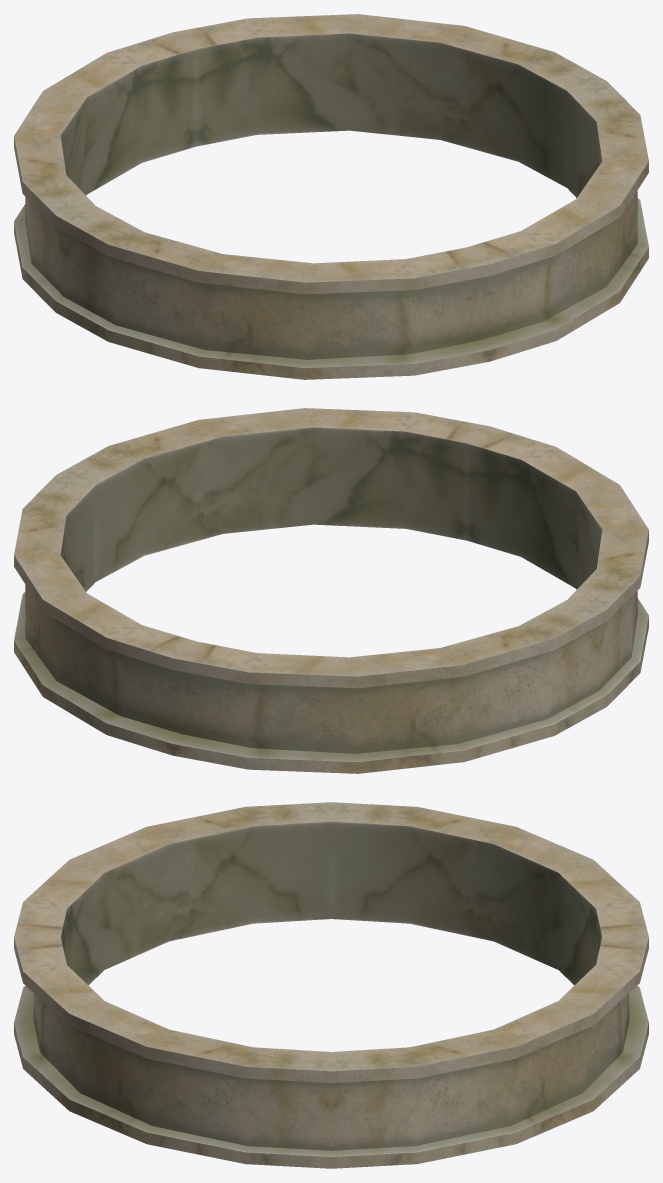
The model's file is pavilion08.fbx.
3 renders of one model, top to bottom at view 1: azimuth 30°, elevation 25°; view 2: azimuth 150°, elevation 25°; view 3: azimuth 270°, elevation 25°, orthographic.
Parts seen in each view (by area): view 1: Cylinder.006; view 2: Cylinder.006; view 3: Cylinder.006.
Part boxes in pixels (x1,y1,x2,y2): Cylinder.006: [14, 14, 648, 379]; Cylinder.006: [14, 408, 648, 773]; Cylinder.006: [14, 802, 648, 1168].
Size of the model in its own units: 573 by 96.54 by 571.
